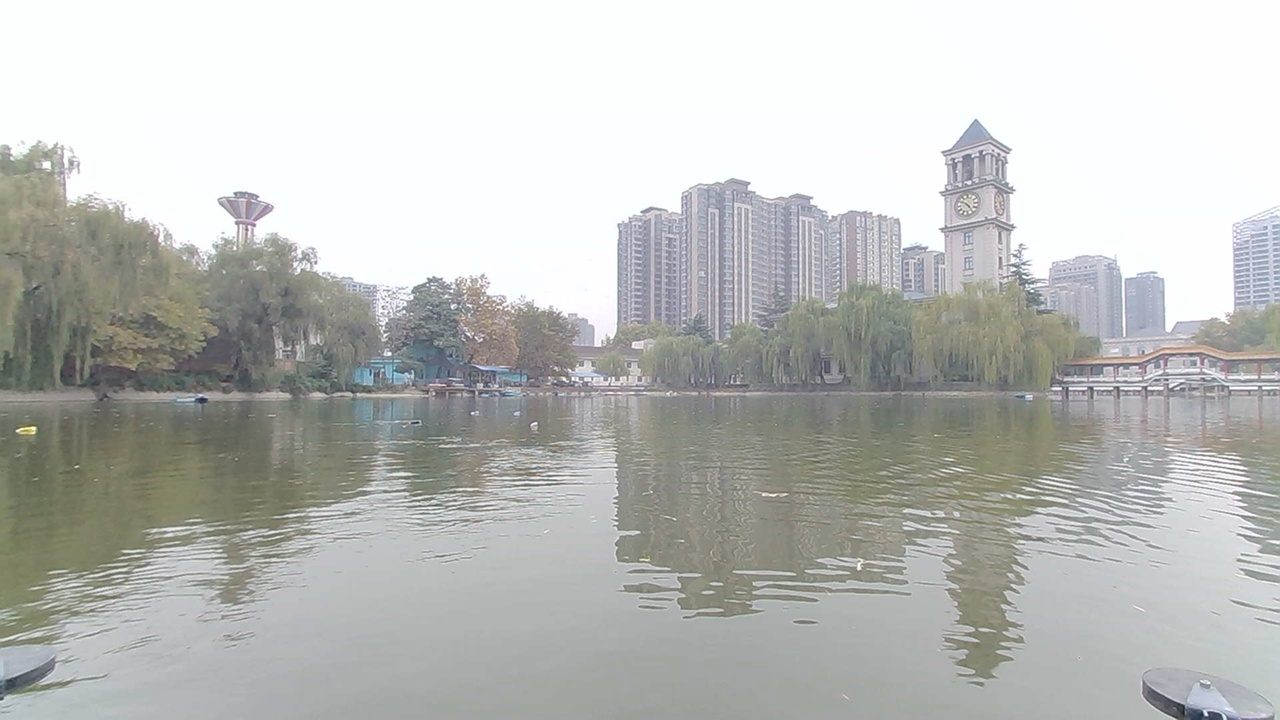bottle: (13, 418, 45, 446), (497, 399, 533, 422), (517, 415, 549, 438), (404, 412, 434, 434), (465, 405, 487, 424)
